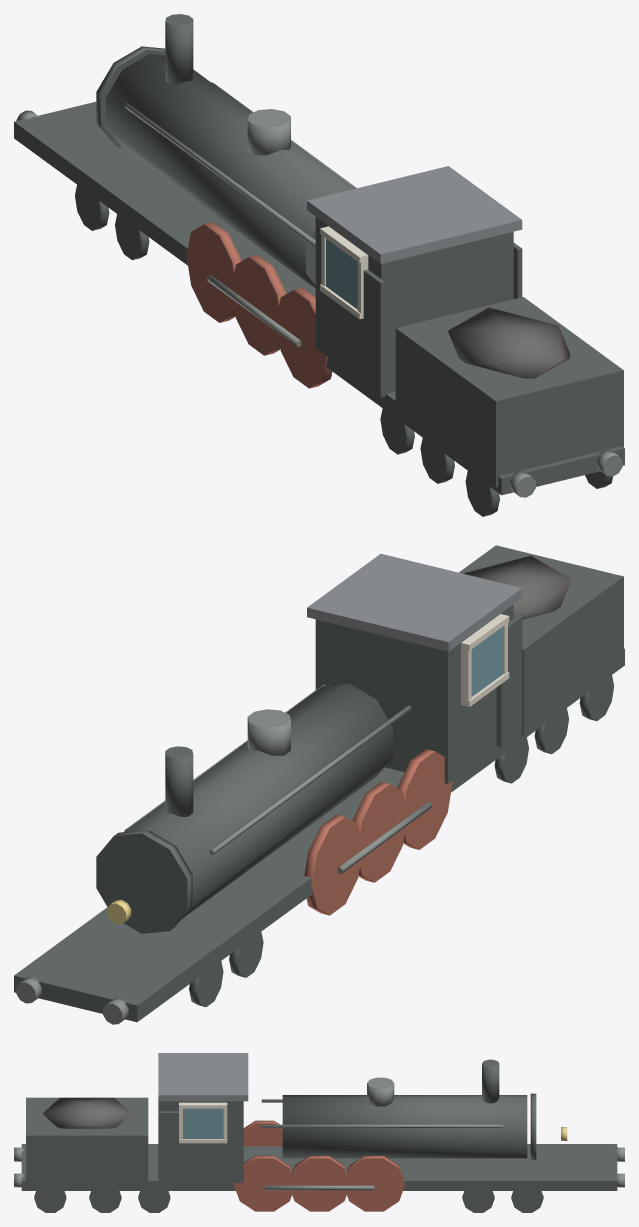
File: rhine-p8_lod1.glb
3 views of the same model, one above another, from view 1: azimuth 30°, elevation 25°; view 2: azimuth 150°, elevation 25°; view 3: azimuth 270°, elevation 25° (orthographic). The views are drawn at different scales.
Parts seen in each view (by area): view 1: RF_Tender, RF_Boiler, RF_Chassis, RF_Cab, RF_CabRoof, RF_TenderCoal, RF_DrivingWheel.003, RF_DrivingWheel.002, RF_DrivingWheel.001, RF_CabDoor.001, RF_Chimney, RF_Dome (+9 smaller); view 2: RF_Boiler, RF_Chassis, RF_Cab, RF_Tender, RF_CabRoof, RF_SmokeboxFront, RF_DrivingWheel.003, RF_DrivingWheel.001, RF_DrivingWheel.002, RF_TenderCoal, RF_CabDoor.001, RF_Chimney (+9 smaller); view 3: RF_Boiler, RF_Chassis, RF_Tender, RF_CabRoof, RF_Cab, RF_DrivingWheel, RF_DrivingWheel.004, RF_DrivingWheel.005, RF_TenderCoal, RF_CabDoor, RF_Window, RF_SteamPipe (+12 smaller).
Part boxes in pixels (bbox=[...]): RF_Tender: bbox=[395, 297, 623, 487]; RF_Boiler: bbox=[105, 54, 355, 288]; RF_Chassis: bbox=[14, 101, 624, 495]; RF_Cab: bbox=[315, 217, 513, 395]; RF_CabRoof: bbox=[307, 166, 522, 263]; RF_TenderCoal: bbox=[448, 307, 570, 378]; RF_DrivingWheel.003: bbox=[186, 222, 241, 322]; RF_DrivingWheel.002: bbox=[234, 255, 286, 355]; RF_DrivingWheel.001: bbox=[276, 287, 332, 388]; RF_CabDoor.001: bbox=[359, 269, 385, 397]; RF_Chimney: bbox=[165, 14, 193, 84]; RF_Dome: bbox=[247, 109, 290, 155]; RF_Boiler: bbox=[124, 684, 392, 918]; RF_Chassis: bbox=[14, 648, 624, 1022]; RF_Cab: bbox=[315, 604, 513, 783]; RF_Tender: bbox=[459, 545, 623, 735]; RF_CabRoof: bbox=[307, 553, 522, 651]; RF_SmokeboxFront: bbox=[96, 830, 191, 933]; RF_DrivingWheel.003: bbox=[304, 814, 362, 915]; RF_DrivingWheel.001: bbox=[397, 749, 452, 849]; RF_DrivingWheel.002: bbox=[352, 782, 407, 882]; RF_TenderCoal: bbox=[463, 555, 571, 619]; RF_CabDoor.001: bbox=[496, 616, 522, 746]; RF_Chimney: bbox=[165, 746, 193, 816]; RF_Boiler: bbox=[282, 1095, 527, 1158]; RF_Chassis: bbox=[21, 1144, 617, 1190]; RF_Tender: bbox=[26, 1097, 148, 1187]; RF_CabRoof: bbox=[158, 1053, 248, 1101]; RF_Cab: bbox=[163, 1101, 243, 1182]; RF_DrivingWheel: bbox=[343, 1155, 404, 1211]; RF_DrivingWheel.004: bbox=[234, 1155, 295, 1211]; RF_DrivingWheel.005: bbox=[288, 1155, 350, 1211]; RF_TenderCoal: bbox=[43, 1097, 131, 1128]; RF_CabDoor: bbox=[158, 1111, 183, 1182]; RF_Window: bbox=[183, 1108, 223, 1138]; RF_SteamPipe: bbox=[261, 1124, 502, 1127].
Bounding box in the file's own units: 3.28 × 4.5 × 18.98.
